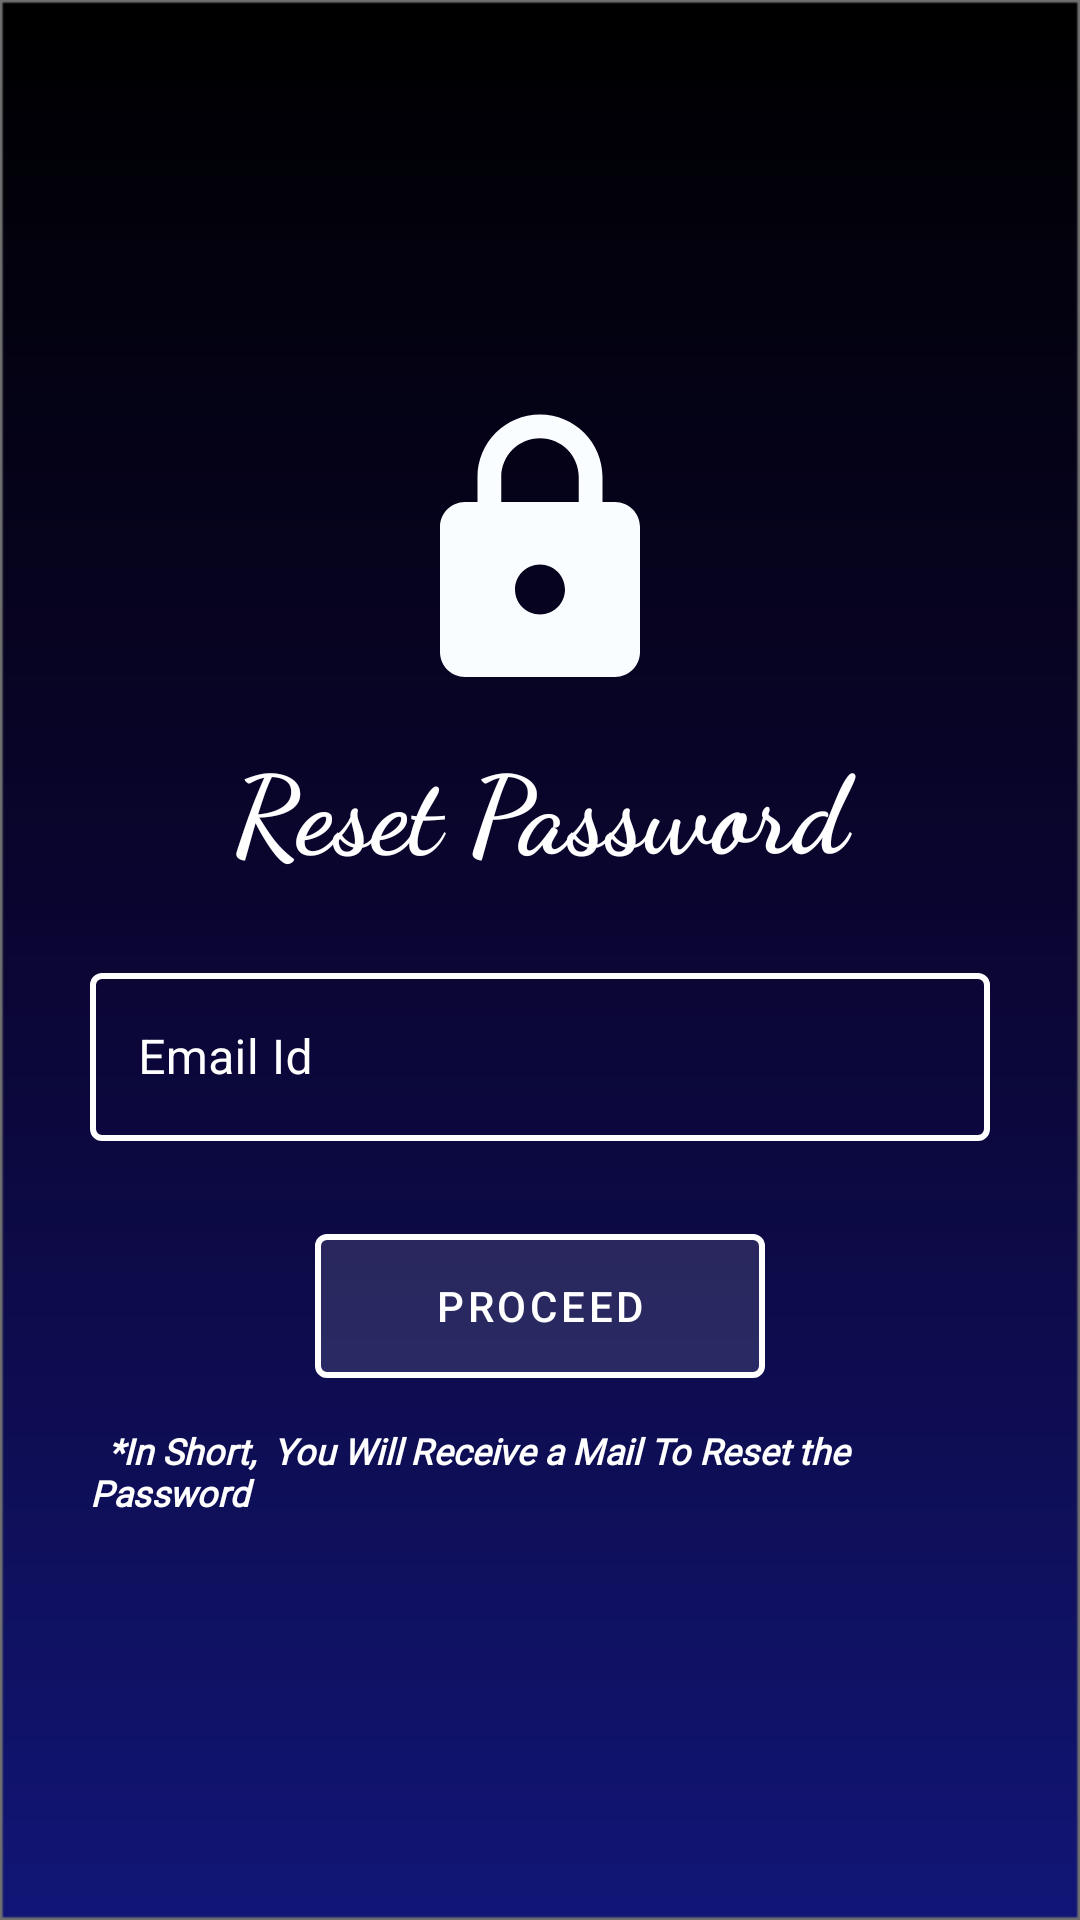

Screen size 1080×1920. Icon name, then its box in pixels as region(x1, y1, x2, y2):
lock: region(440, 414, 640, 677)
